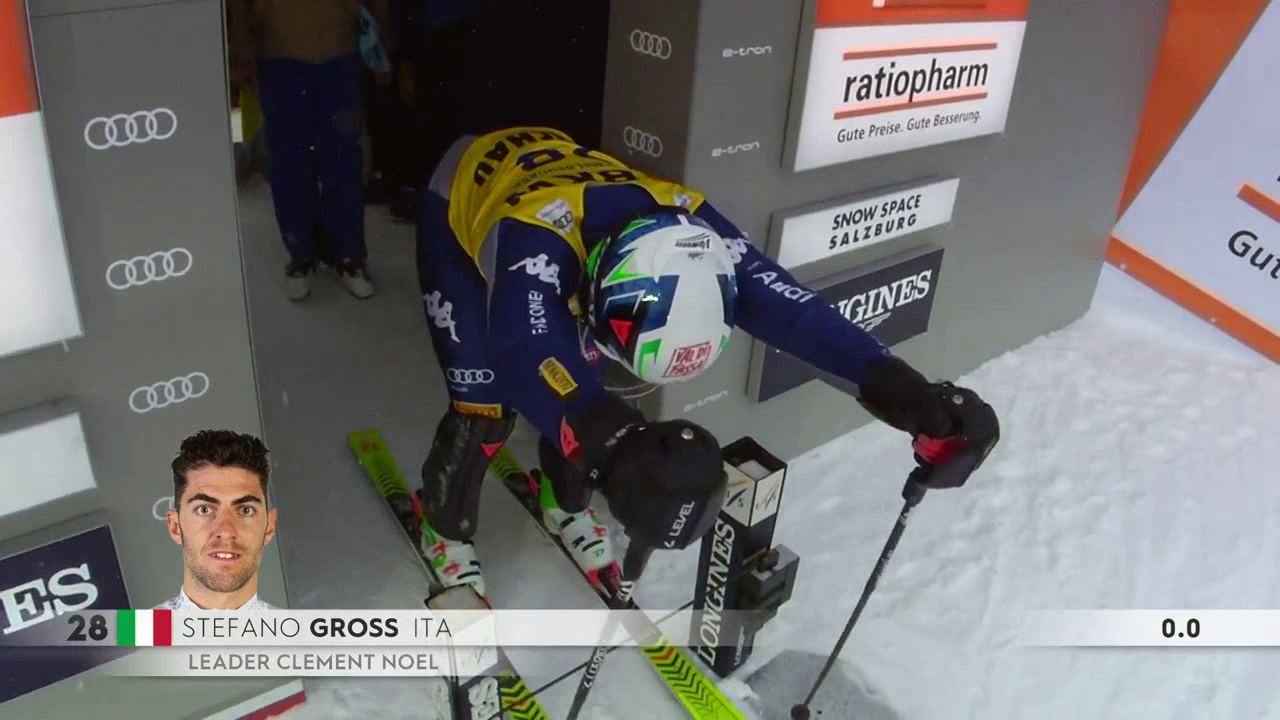audi: (81, 108, 182, 158), (101, 248, 195, 298), (126, 372, 212, 419), (625, 29, 678, 66), (620, 126, 667, 162), (446, 367, 501, 389)
etron: (708, 137, 764, 160), (719, 40, 776, 62)
longines: (826, 266, 943, 338)
ratiopharm: (827, 39, 1002, 150)
